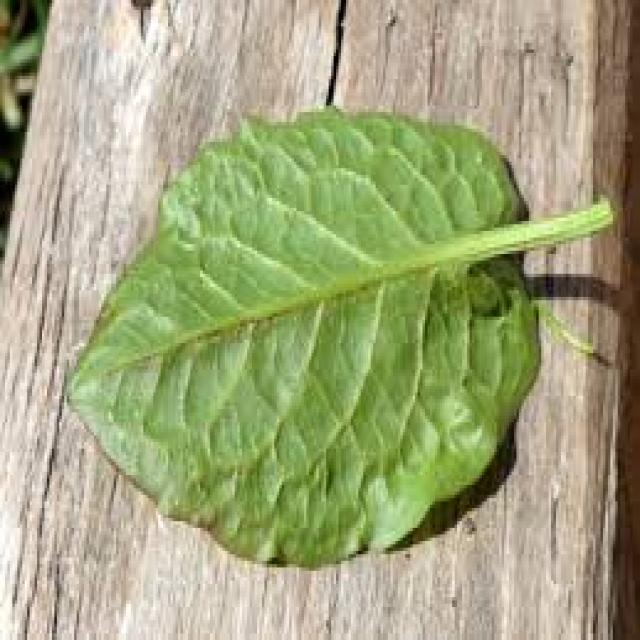organic waste: (49, 105, 623, 578)
